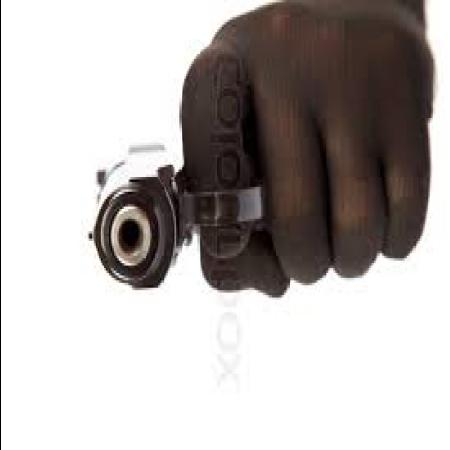Pistol: (81, 140, 274, 300)
